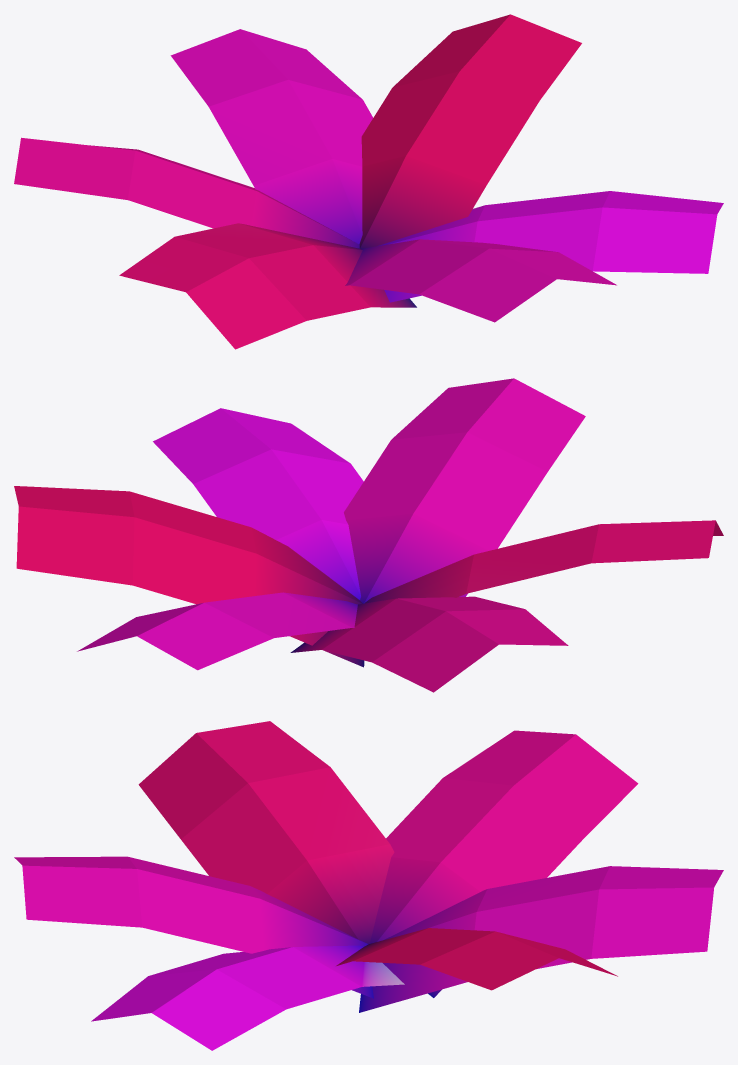
File: leaf.fbx
3 renders of one model, top to bottom at view 1: azimuth 30°, elevation 25°; view 2: azimuth 150°, elevation 25°; view 3: azimuth 270°, elevation 25°, orthographic.
Visible parts, largest first — view 1: Plane; view 2: Plane; view 3: Plane.
Part boxes in pixels (x1=…): Plane: x1=14, y1=14, x2=723, y2=349; Plane: x1=14, y1=378, x2=723, y2=692; Plane: x1=14, y1=721, x2=723, y2=1050.
Bounding box in the file's own units: 376 × 92.48 × 399.
